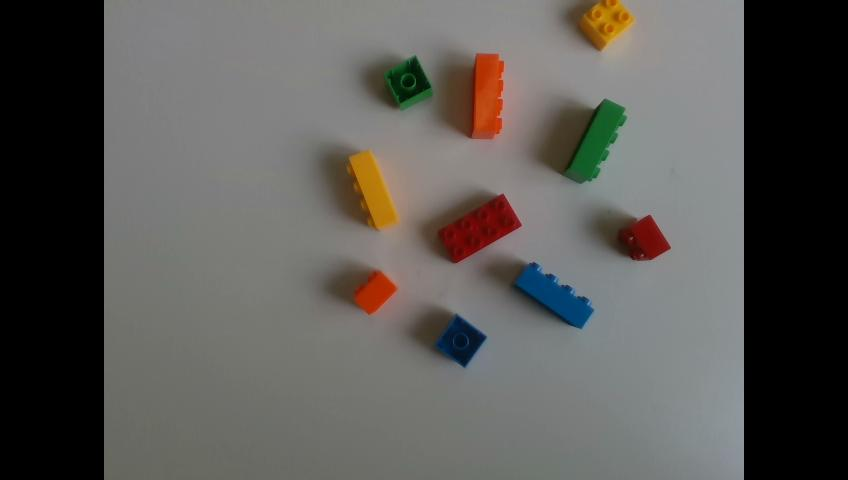2x2_blue: (436, 314, 487, 365)
2x2_green: (382, 57, 435, 107)
2x2_orange: (355, 270, 397, 311)
2x2_red: (620, 213, 671, 258)
2x2_yellow: (580, 0, 635, 48)
4x2_blue: (513, 263, 595, 331)
4x2_green: (564, 98, 627, 186)
4x2_orange: (472, 53, 503, 137)
4x2_red: (439, 195, 520, 260)
4x2_yellow: (347, 149, 399, 227)
